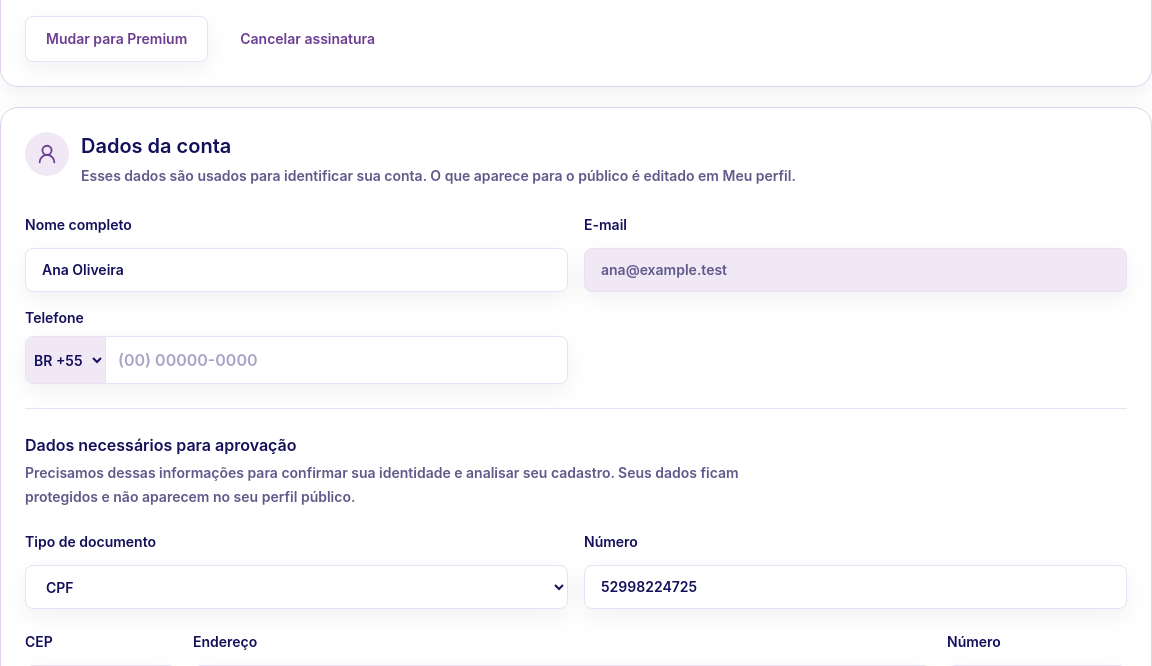
TherapistSettingsPage › saves edited account settings through the authenticated command
(page scrolled)
Type "11 99999-9999" into the field labelled "Telefone" at x=336, y=360, box [106,337,567,383]
(page scrolled)
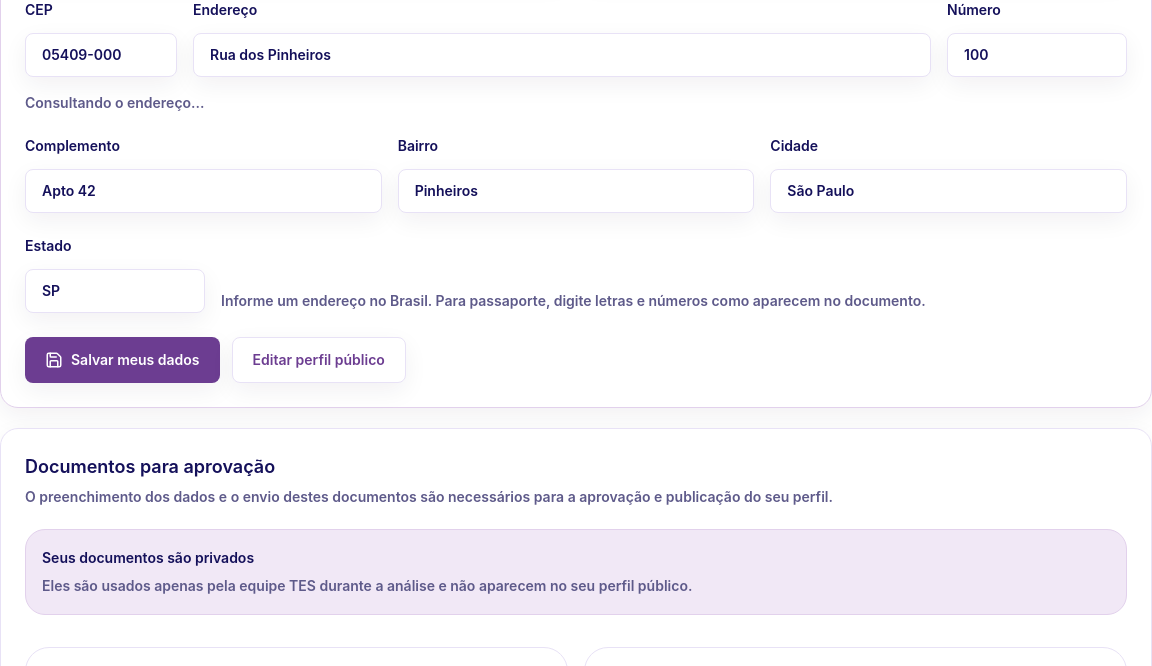
Click the button "Salvar meus dados" at x=122, y=360, box [25,337,220,383]
(page scrolled)
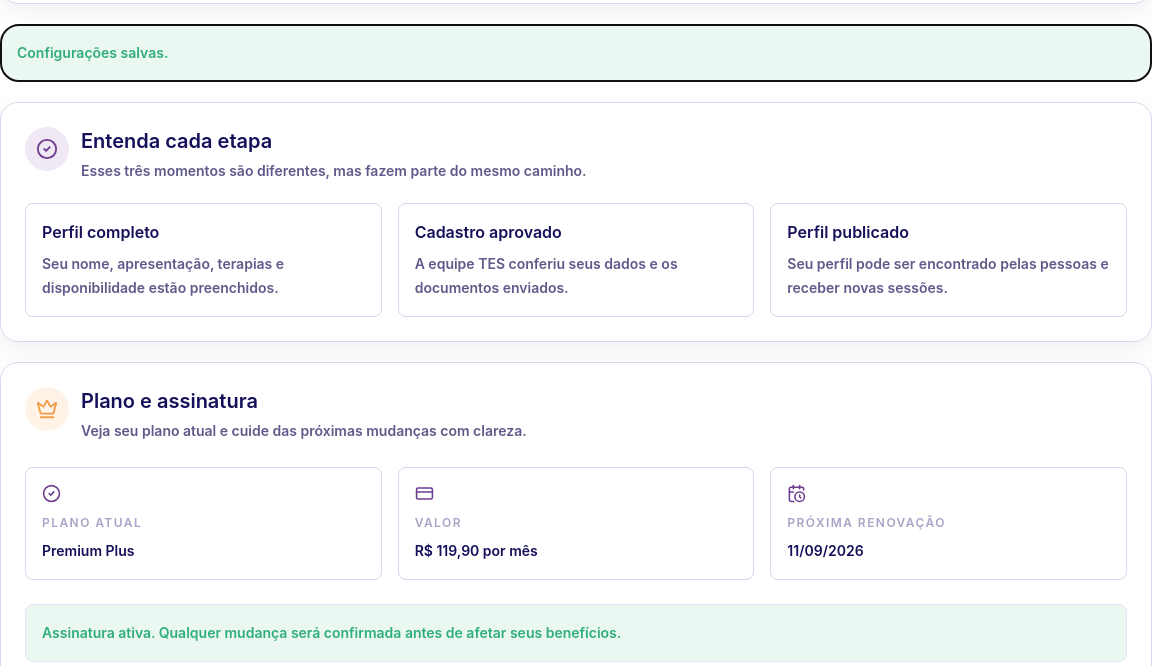
expect the text "Configurações salvas." is shown: met, box [0,24,1151,82]
